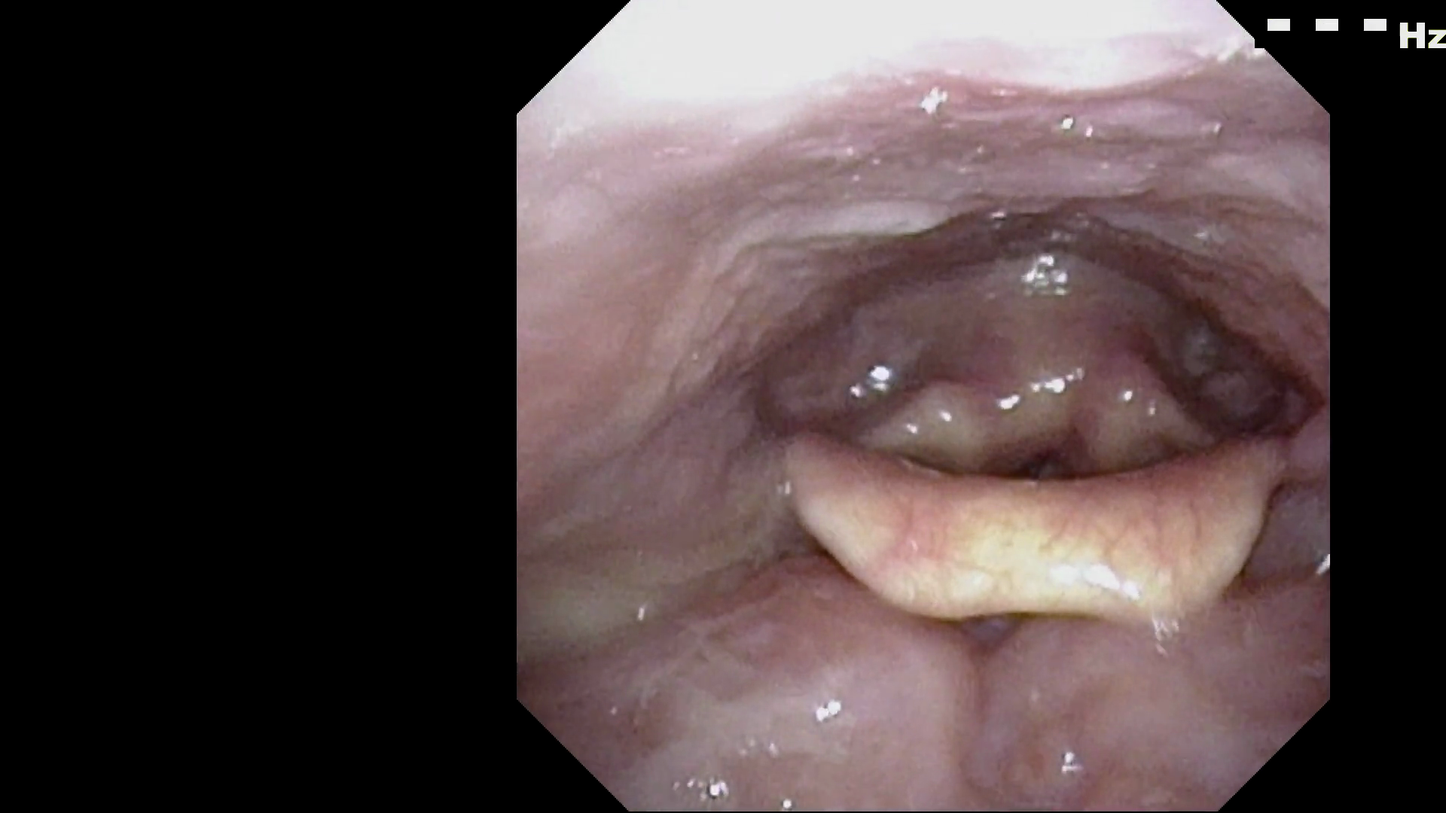epiglottis: (772, 388, 1302, 628)
trachea: (966, 384, 1112, 539)
